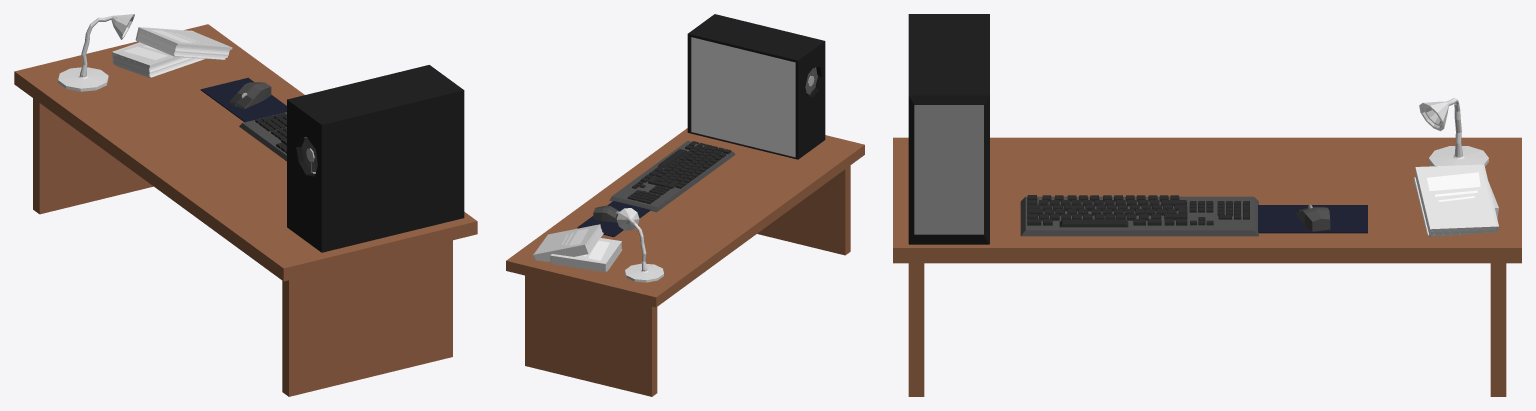
The model's file is Desktop.fbx.
3 views of the same model, side by side, from view 1: azimuth 30°, elevation 25°; view 2: azimuth 150°, elevation 25°; view 3: azimuth 270°, elevation 25° (orthographic). The views are drawn at different scales.
Parts seen in each view (by area): view 1: Cube.009, Cube.014, Cube.013, Cube.001, Cube.002, Cylinder, Cube.012; view 2: Cube.009, Cube.014, Cube.012, Cube.001, Cube.002, Cylinder, Cube.013; view 3: Cube.009, Cube.014, Cube.012, Cube.001, Cube.013, Cylinder.
Boxes of the visible parts, left/top/right/bottom form: Cube.009: left=14, top=24, right=477, bottom=396; Cube.014: left=287, top=65, right=464, bottom=252; Cube.013: left=200, top=77, right=286, bottom=122; Cube.001: left=135, top=27, right=232, bottom=59; Cube.002: left=112, top=42, right=205, bottom=77; Cylinder: left=58, top=14, right=134, bottom=91; Cube.012: left=239, top=112, right=286, bottom=161; Cube.009: left=506, top=128, right=864, bottom=396; Cube.014: left=687, top=14, right=825, bottom=159; Cube.012: left=609, top=141, right=735, bottom=212; Cube.001: left=533, top=224, right=603, bottom=261; Cube.002: left=550, top=238, right=622, bottom=272; Cylinder: left=616, top=208, right=663, bottom=282; Cube.013: left=577, top=201, right=650, bottom=236; Cube.009: left=893, top=137, right=1521, bottom=396; Cube.014: left=908, top=14, right=989, bottom=244; Cube.012: left=1020, top=195, right=1258, bottom=236; Cube.001: left=1413, top=164, right=1498, bottom=236; Cube.013: left=1258, top=204, right=1367, bottom=233; Cylinder: left=1419, top=98, right=1488, bottom=166.
Size of the model in its own units: 208 by 270 by 500.
